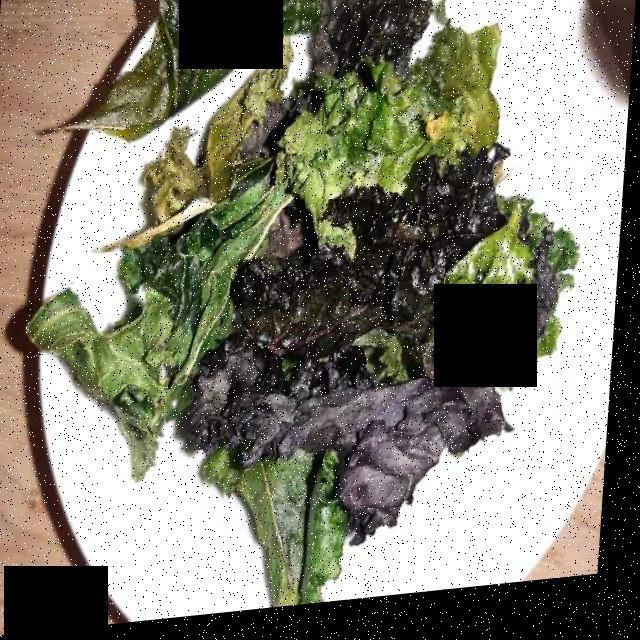salad: (30, 1, 569, 594)
